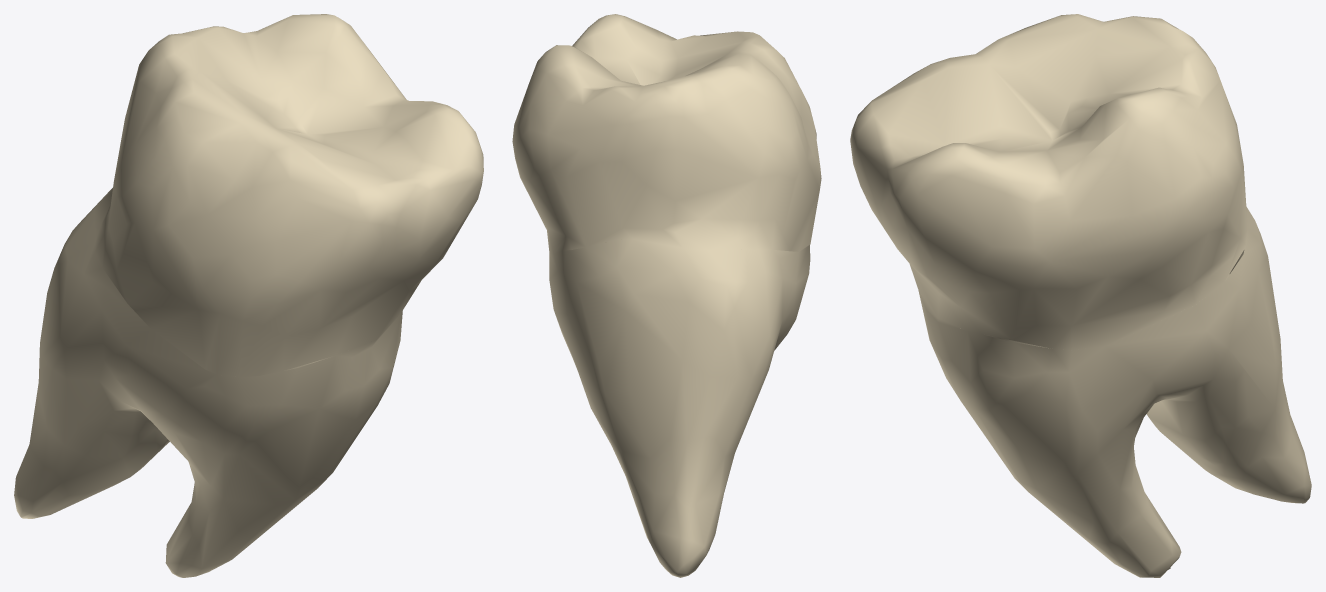
The model's file is esqueleto-lower-first-molar-tooth-r.glb.
The picture shows the model from 3 angles, left to right: view 1: azimuth 30°, elevation 25°; view 2: azimuth 150°, elevation 25°; view 3: azimuth 270°, elevation 25°; orthographic projection. The views are drawn at different scales.
Visible parts, largest first — view 1: Lower first molar tooth.r; view 2: Lower first molar tooth.r; view 3: Lower first molar tooth.r.
Part boxes in pixels (left/top/right/bottom): Lower first molar tooth.r: left=14, top=14, right=483, bottom=577; Lower first molar tooth.r: left=512, top=14, right=821, bottom=577; Lower first molar tooth.r: left=850, top=14, right=1311, bottom=577.
Size of the model in its own units: 0.012 by 0.0192 by 0.0148.
